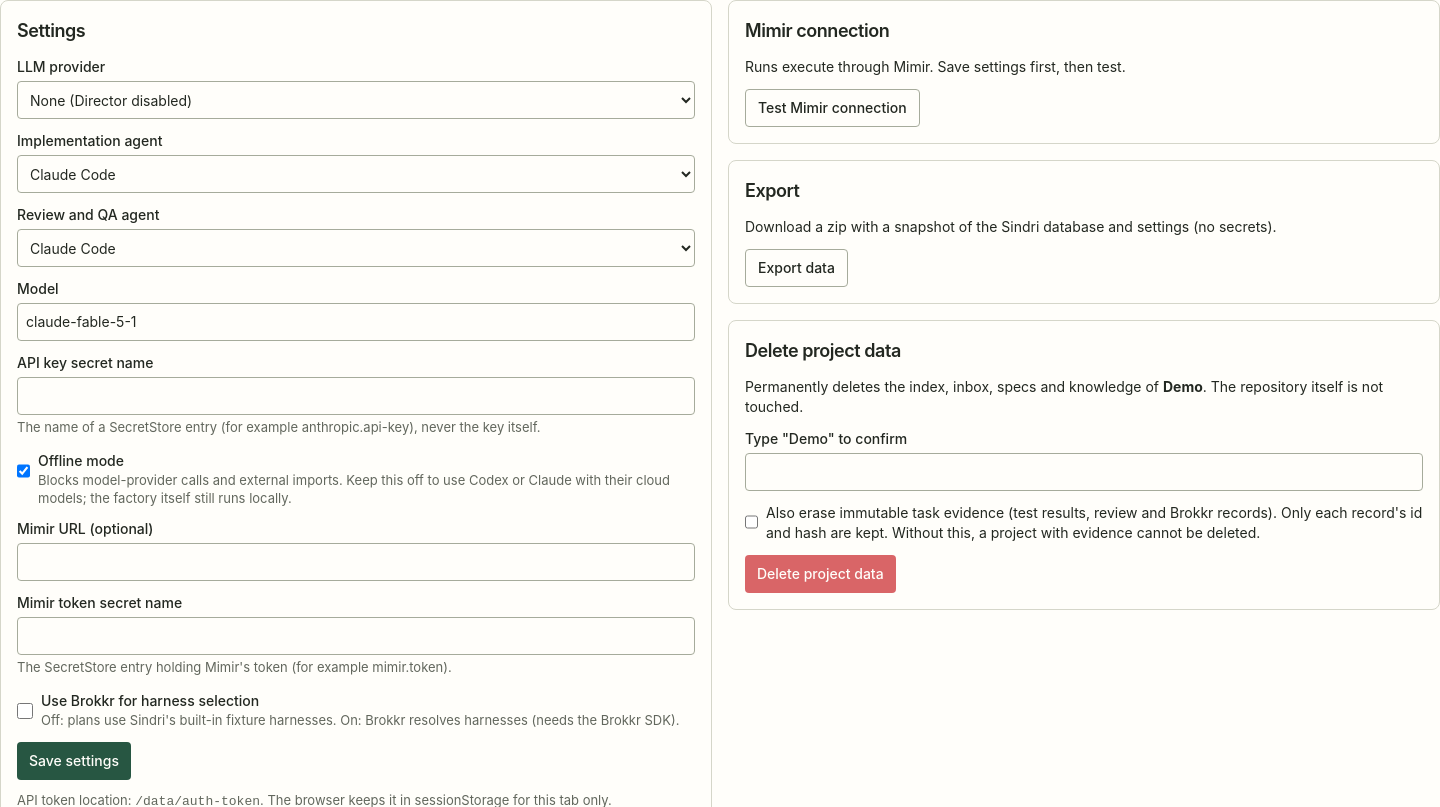
Test: SettingsScreen › shows validation errors from the server
Step 1. Click the button "Save settings" → (74, 761), box [17,742,131,780]
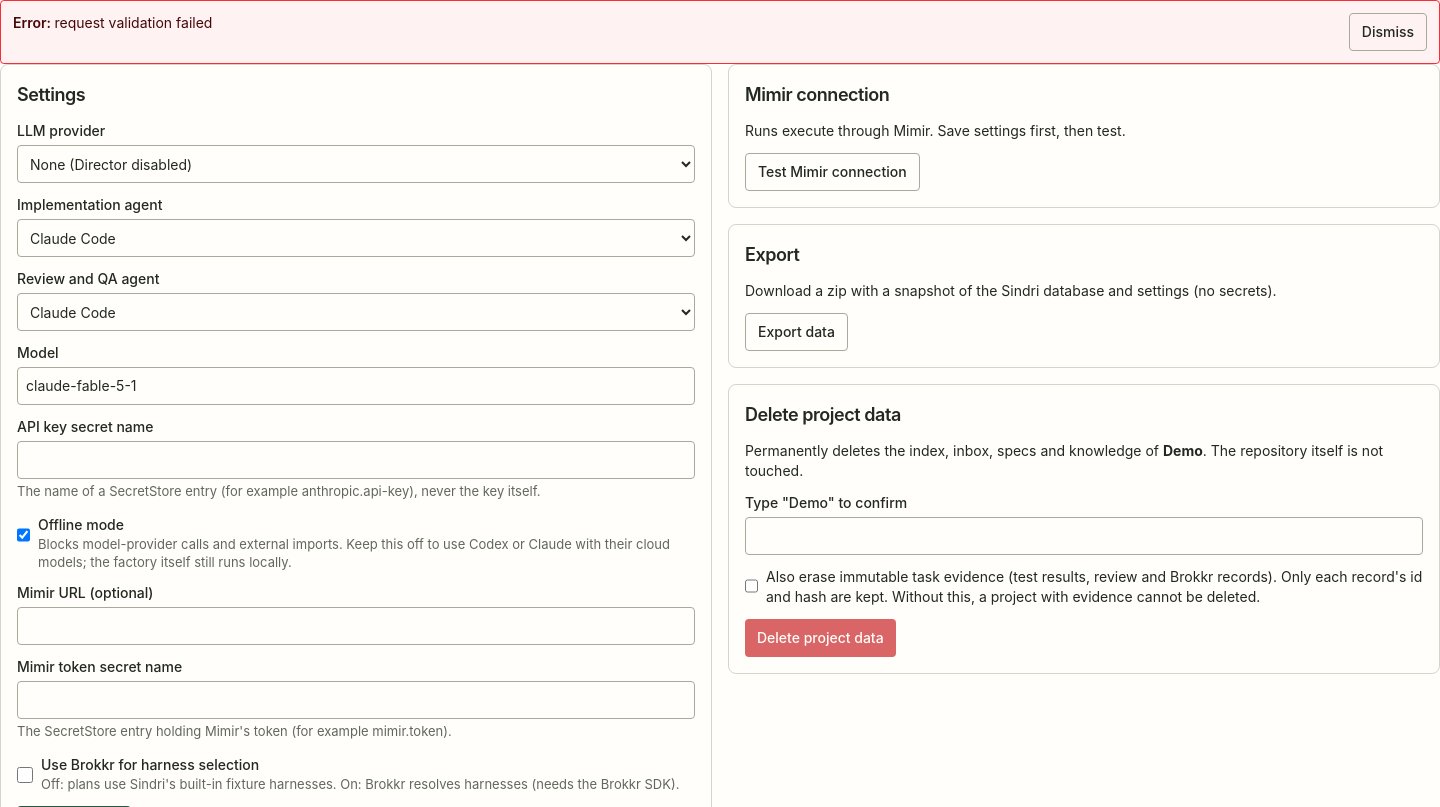
Check: the message shows "validation failed", box [54,14,212,31]
